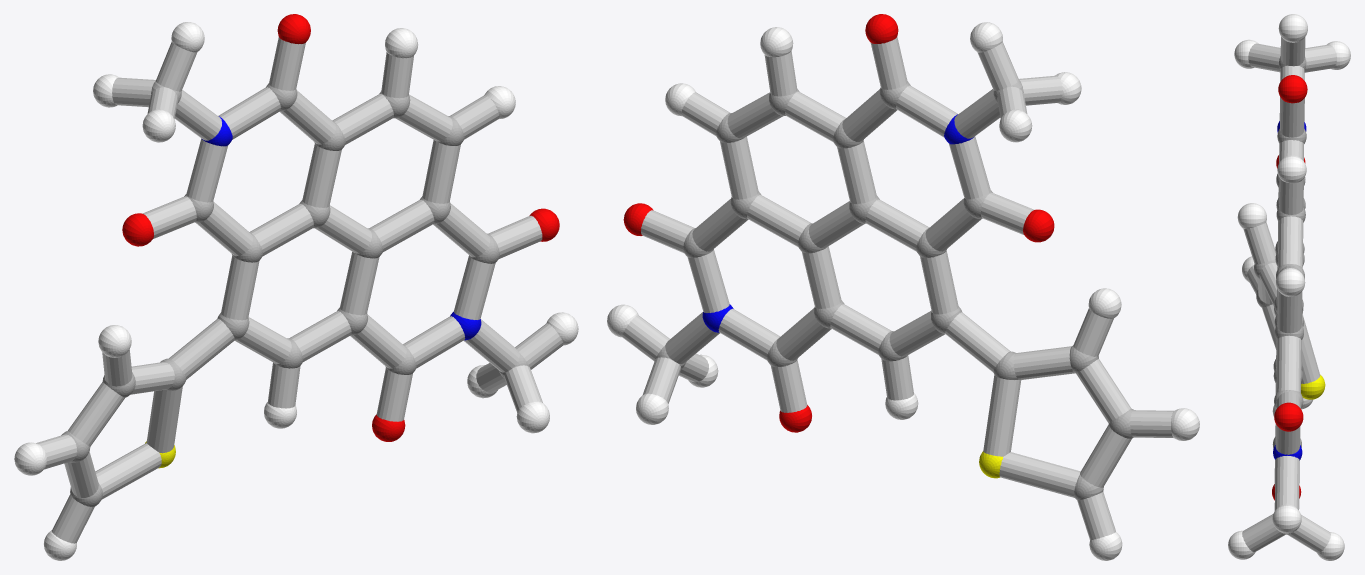
File: Dimethyl_Naphthalene_Dicarboximide_Phi_5_Theta_340_Thiophene.glb
3 renders of one model, left to right at view 1: azimuth 30°, elevation 25°; view 2: azimuth 150°, elevation 25°; view 3: azimuth 270°, elevation 25°, orthographic. The views are drawn at different scales.
Parts seen in each view (by area): view 1: grp14119, grp7241, grp1, grp12309, grp11585; view 2: grp14119, grp7241, grp1, grp12309, grp11585; view 3: grp14119, grp7241, grp1, grp12309, grp13757, grp11585.
Boxes of the visible parts, x1,y1,x2,y2 form: grp14119: (36, 37, 563, 543); grp7241: (14, 22, 578, 560); grp1: (61, 81, 529, 507); grp12309: (122, 14, 559, 441); grp11585: (202, 116, 481, 340); grp14119: (622, 37, 1174, 540); grp7241: (607, 22, 1199, 560); grp1: (656, 80, 1133, 500); grp12309: (623, 14, 1054, 432); grp11585: (702, 114, 973, 332); grp14119: (1242, 36, 1336, 552); grp7241: (1228, 14, 1350, 560); grp1: (1254, 56, 1306, 534); grp12309: (1272, 75, 1307, 500); grp13757: (1301, 374, 1325, 399); grp11585: (1273, 121, 1306, 460).
Bounding box in the file's own units: 11.98 × 10.08 × 2.52.
